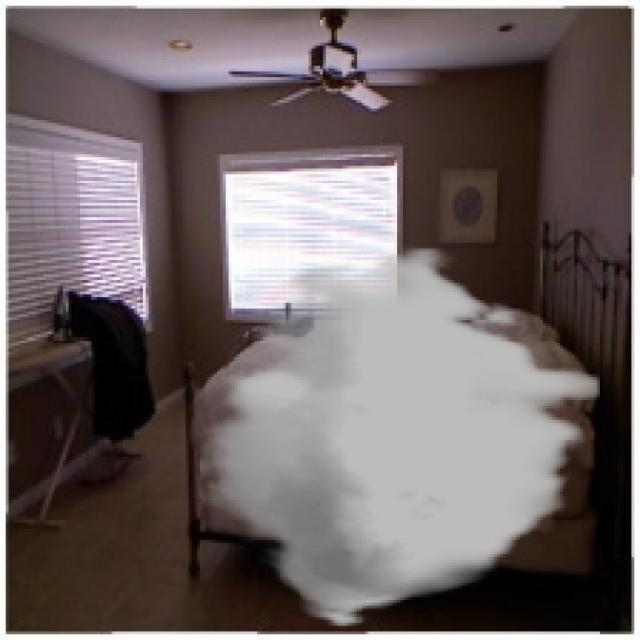Smoke: (200, 246, 600, 628)
